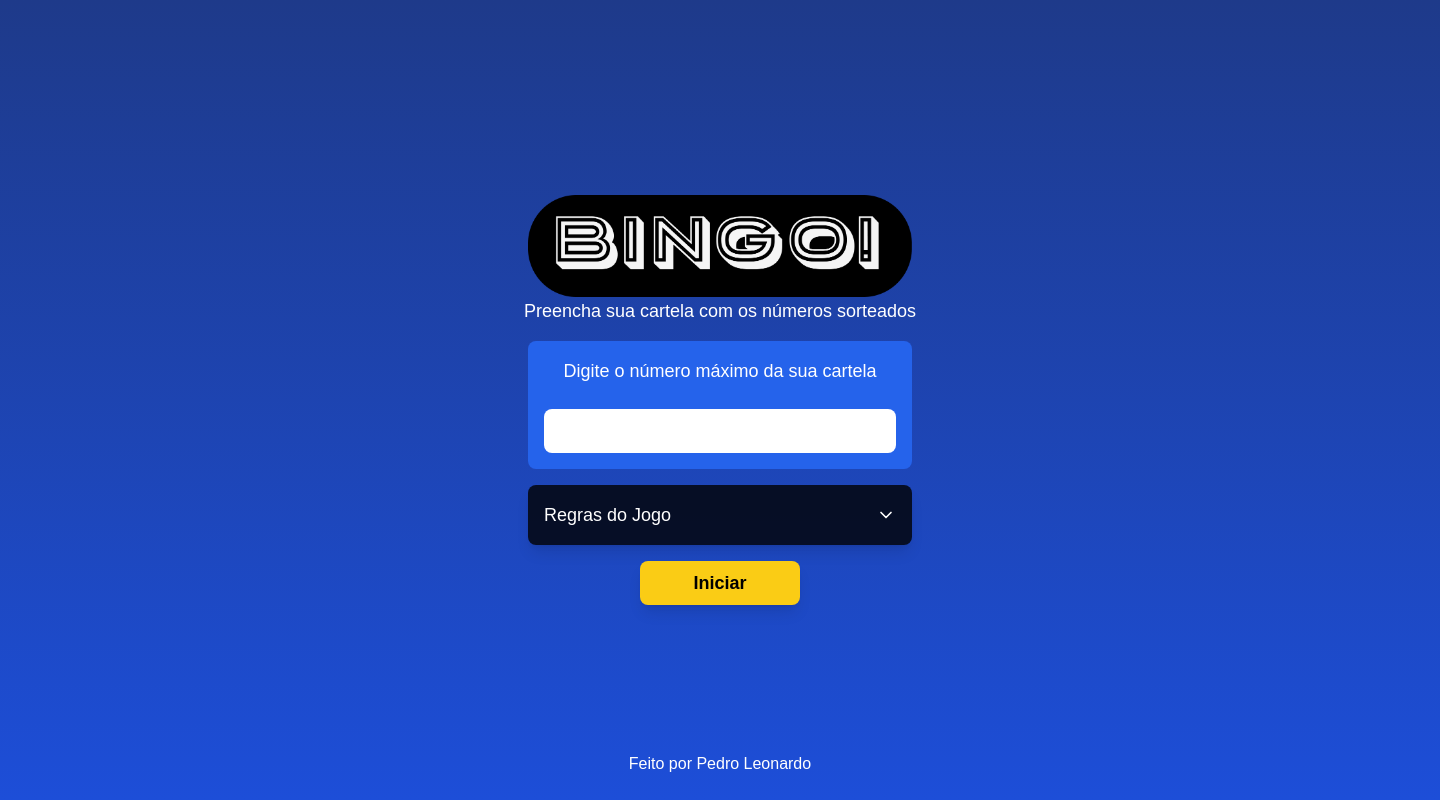
Test: Página de Bingo › deve sortear um número e exibir corretamente
Type "10" into the number field named "maxLength".
click(720, 431); type("10")  # box [544,409,896,453]
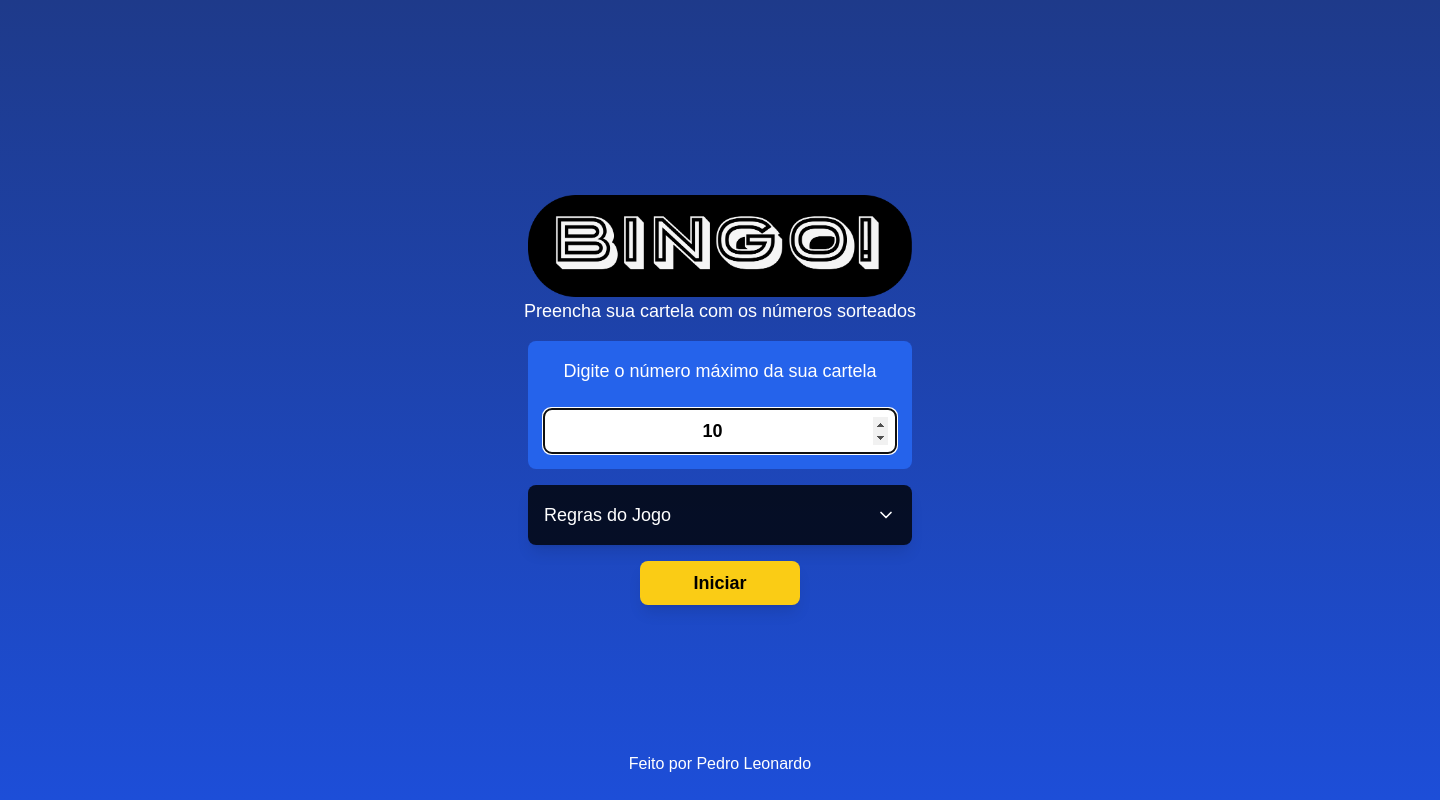
Click the button "Iniciar".
click(720, 583)  # box [640,561,800,605]
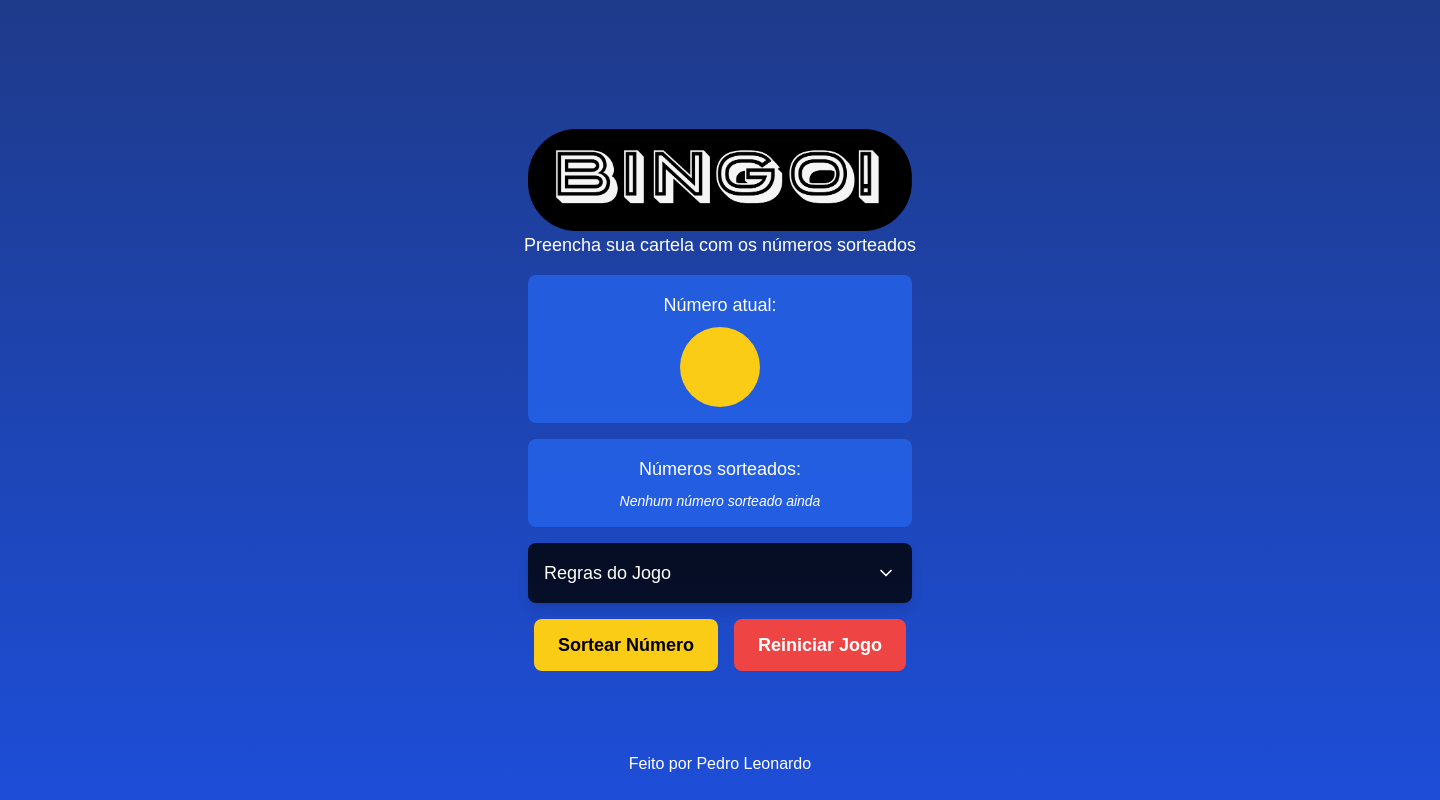
Click the button "Sortear Número".
click(626, 645)  # box [534,619,718,671]
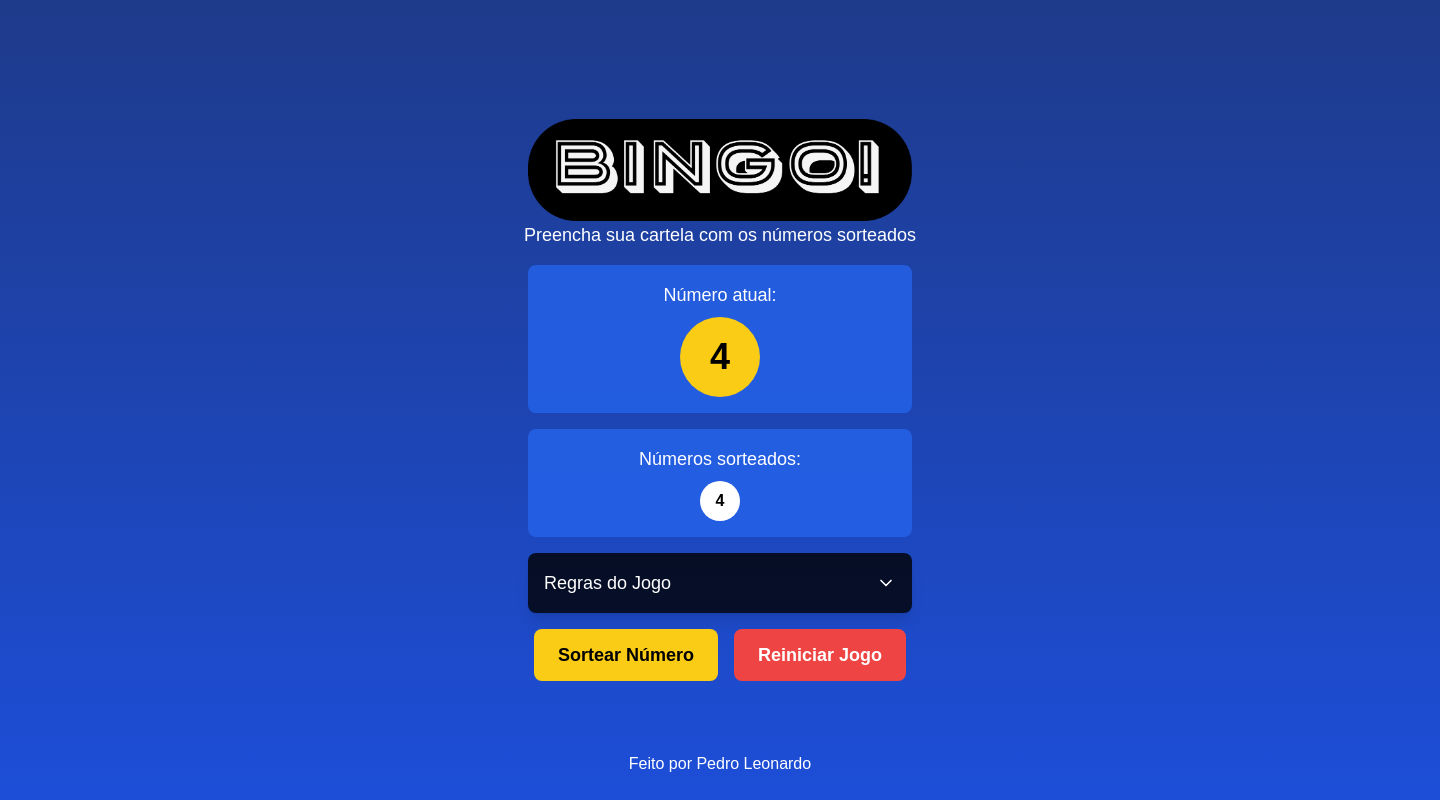
Expected: the element with id "lastNumber" is not empty
Now the number of elements with class "number" is 1, box [700,481,740,521]
